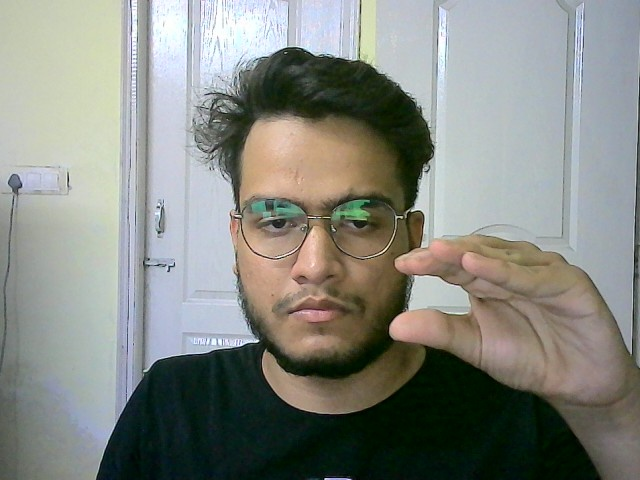No: (390, 229, 640, 409)
